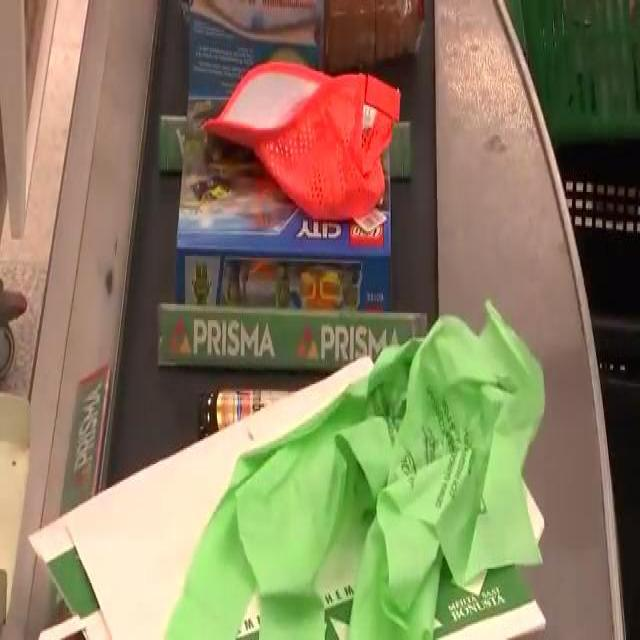beverage: (202, 379, 350, 444)
utility-box: (34, 318, 552, 640), (176, 79, 397, 307), (207, 57, 400, 215), (184, 0, 326, 110), (312, 1, 428, 74)
